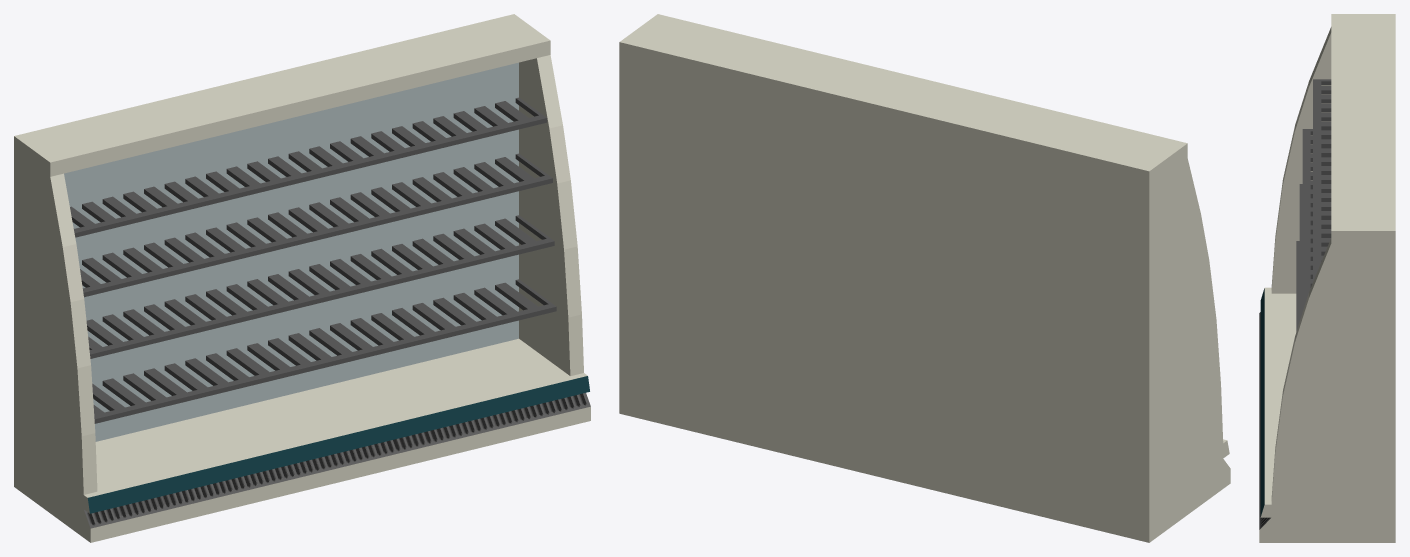
The model's file is fridge.FBX.
3 views of the same model, side by side, from view 1: azimuth 30°, elevation 25°; view 2: azimuth 150°, elevation 25°; view 3: azimuth 270°, elevation 25° (orthographic). The views are drawn at different scales.
Parts seen in each view (by area): view 1: Box002; view 2: Box002; view 3: Box002.
Boxes of the visible parts, x1,y1,x2,y2 form: Box002: (14,14,590,542); Box002: (619,14,1230,542); Box002: (1259,14,1395,542).
Bounding box in the file's own units: 73.12 × 49 × 19.4.
